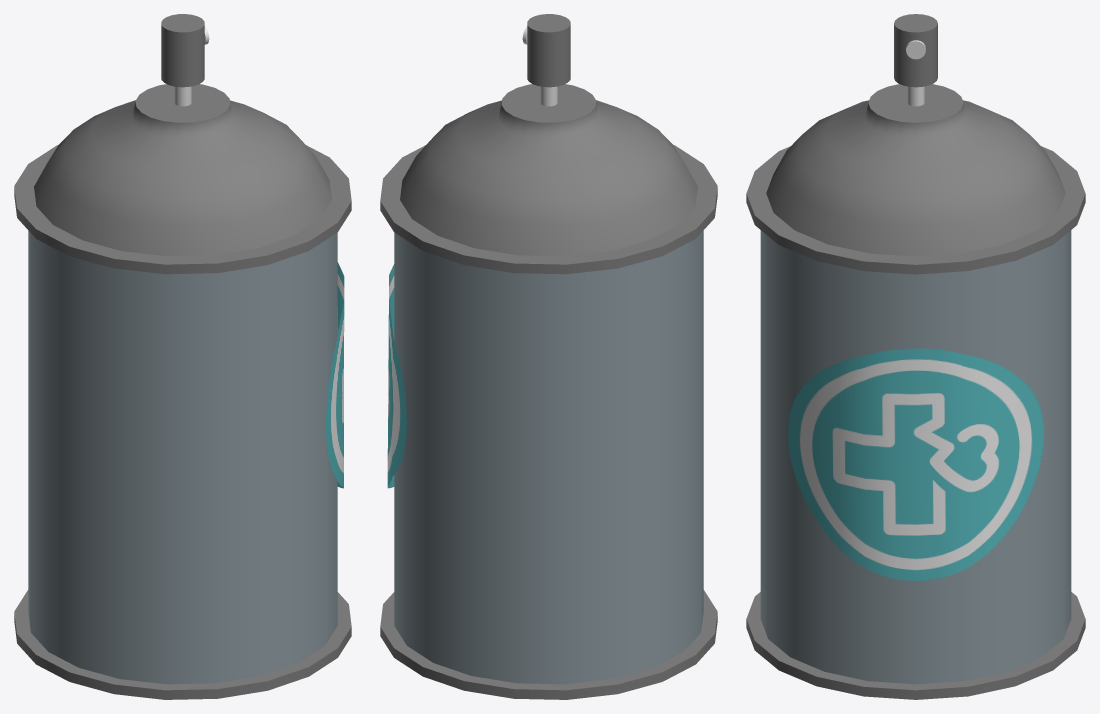
The model's file is Heal sprayy.fbx.
3 renders of one model, left to right at view 1: azimuth 30°, elevation 25°; view 2: azimuth 150°, elevation 25°; view 3: azimuth 270°, elevation 25°, orthographic.
Visible parts, largest first — view 1: pasted__polySurface19; view 2: pasted__polySurface19; view 3: pasted__polySurface19.
Boxes of the visible parts, <box> form: pasted__polySurface19: <box>14,14,351,699</box>; pasted__polySurface19: <box>380,14,717,699</box>; pasted__polySurface19: <box>746,14,1085,699</box>.
Size of the model in its own units: 1.32 by 2.61 by 1.32.
